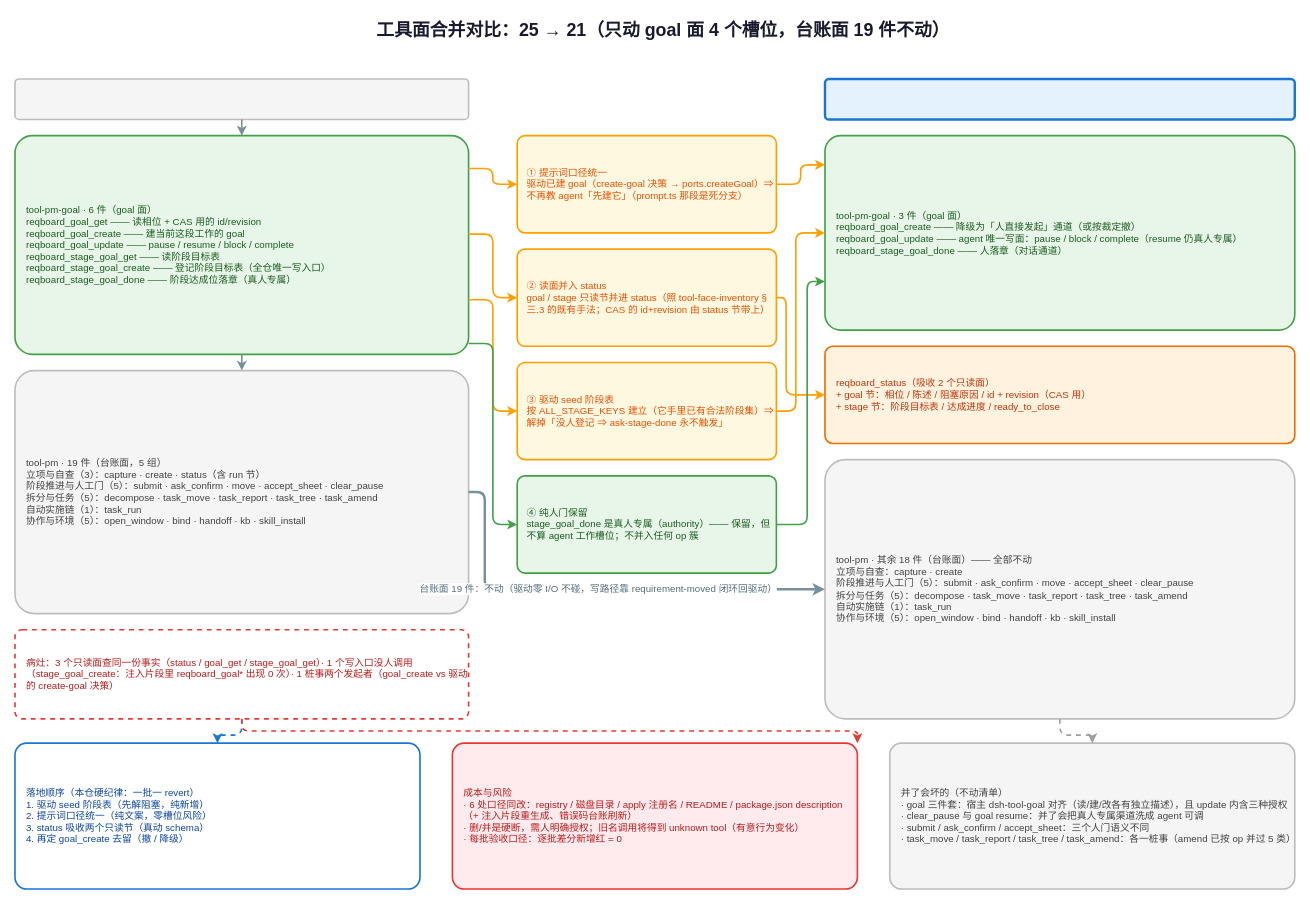
This 1310x903 diagram has some shape labels left out. The centre of each missing label's shape, as x and y in pixels:
合并前 · 25 个常驻槽位（每个 schema 每轮请求都要重发）: the point at 241,99
合并后 · 21 个常驻槽位（省 4 个 schema）: the point at 1059,98
